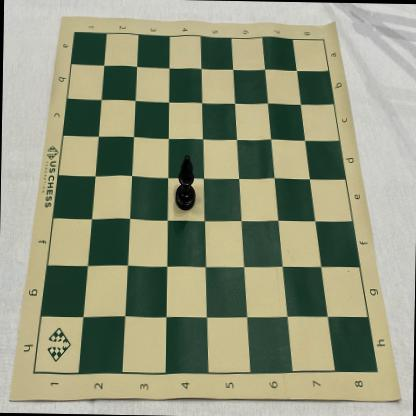bishop: (173, 153, 196, 211)
